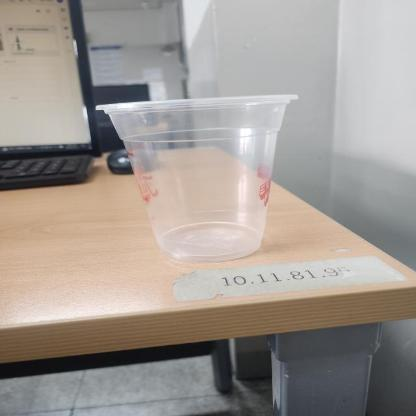Plastic Cup: (94, 93, 302, 261)
